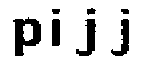i: (47, 3, 66, 50)
j: (71, 4, 98, 60), (109, 3, 133, 60)
p: (10, 16, 43, 59)
